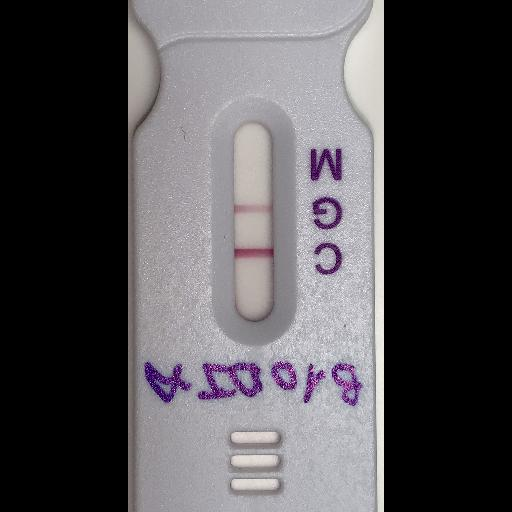Pos: (129, 0, 370, 511)
